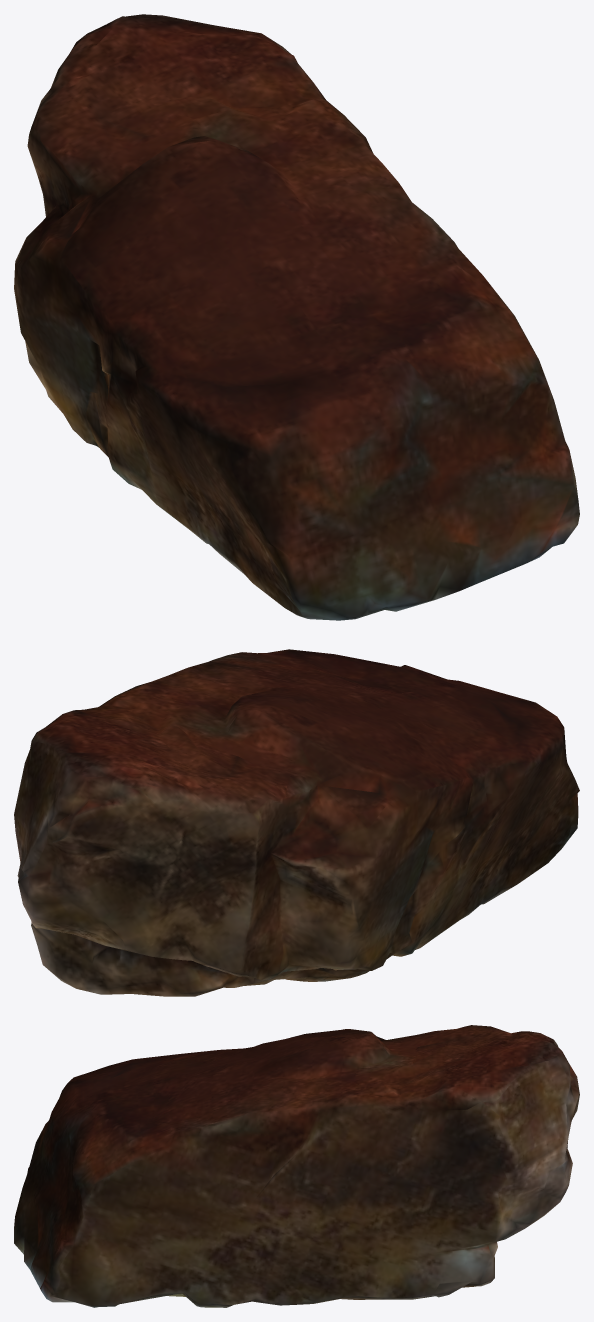
Rendered from rock_small.glb.
The picture shows the model from 3 angles, top to bottom: view 1: azimuth 30°, elevation 25°; view 2: azimuth 150°, elevation 25°; view 3: azimuth 270°, elevation 25°; orthographic projection. The views are drawn at different scales.
Size of the model in its own units: 0.1681 by 0.1437 by 0.3198.
1 material, 1 textured.
